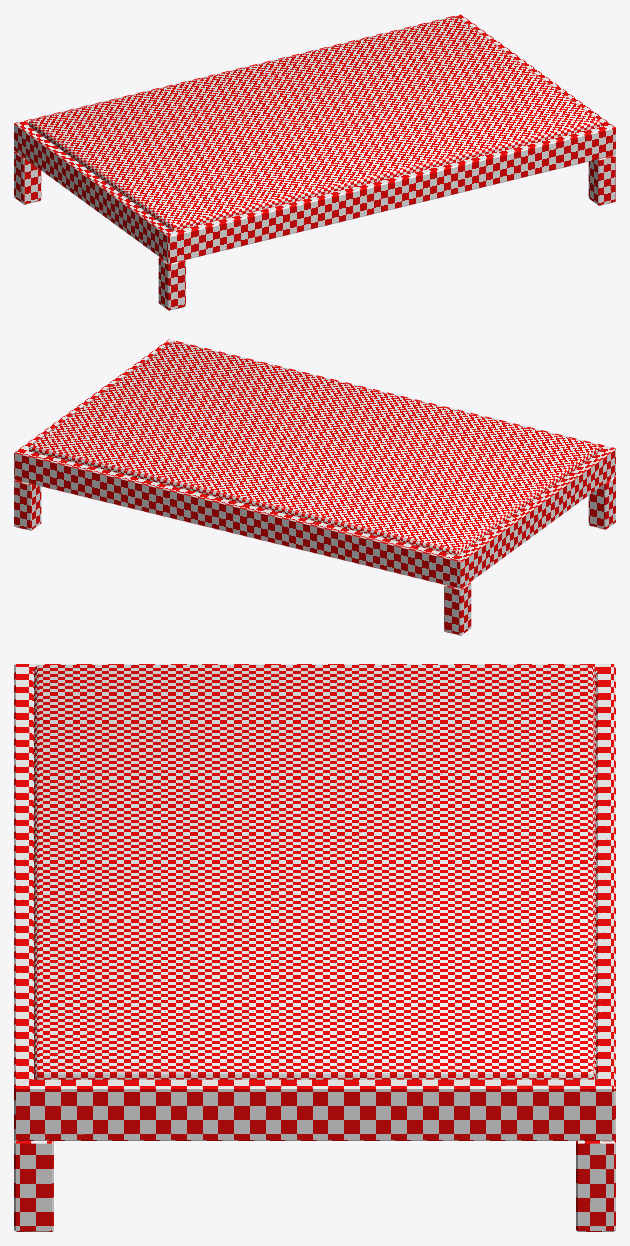
The model's file is bed.dae.
The picture shows the model from 3 angles, top to bottom: view 1: azimuth 30°, elevation 25°; view 2: azimuth 150°, elevation 25°; view 3: azimuth 270°, elevation 25°; orthographic projection. The views are drawn at different scales.
Visible parts, largest first — view 1: Cube; view 2: Cube; view 3: Cube.
Part boxes in pixels (x1,y1,x2,y2): Cube: [14, 14, 615, 310]; Cube: [14, 339, 615, 635]; Cube: [14, 664, 615, 1231].
Size of the model in its own units: 5 by 3 by 0.85.
Materials: 2 (2 with a texture image).
